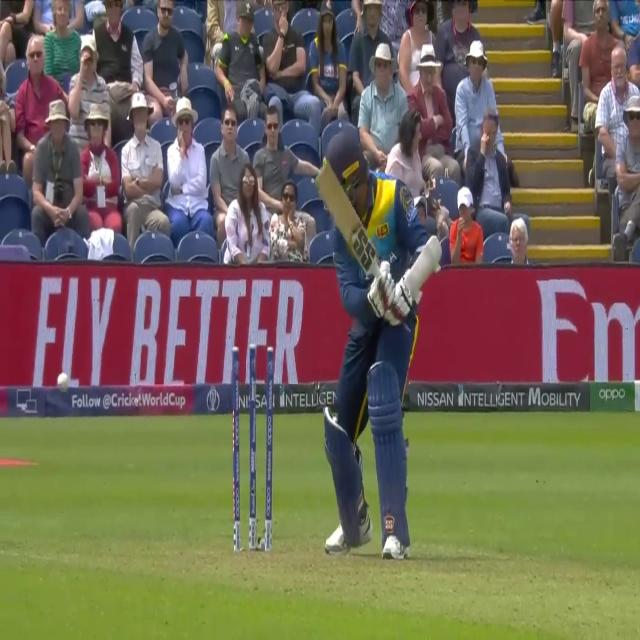ball: (54, 362, 76, 404)
